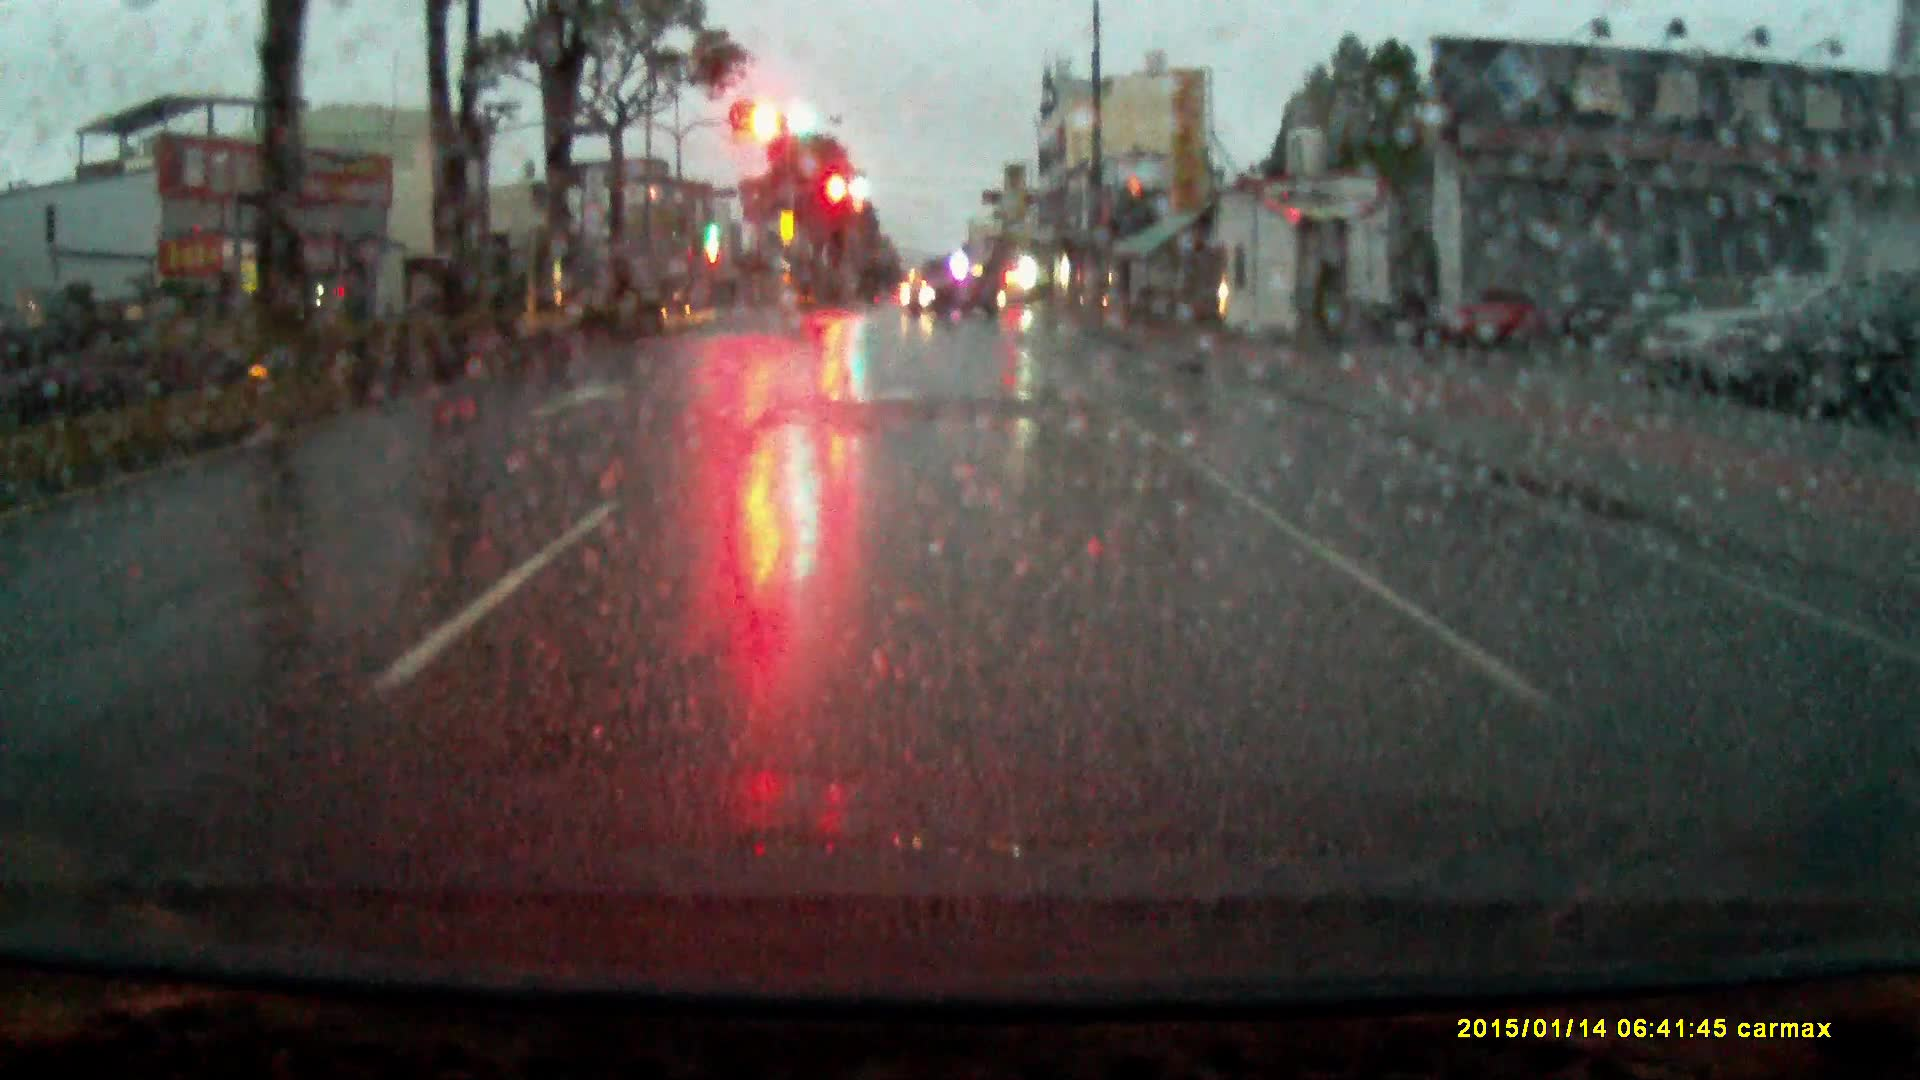vehicle: (1640, 277, 1920, 406), (1759, 287, 1920, 422), (901, 276, 997, 324)
